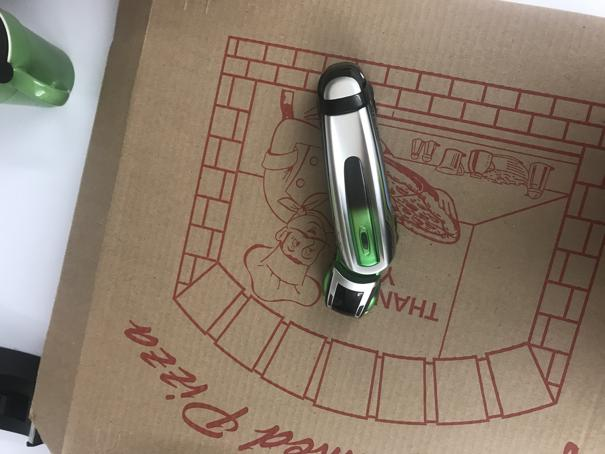Freewheel: (318, 61, 401, 319)
